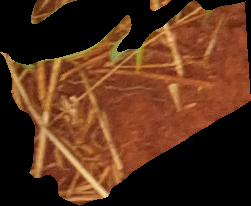soil: (2, 3, 249, 203)
